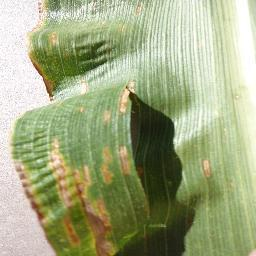Gray_Leaf_Spot: (29, 193, 155, 256), (14, 0, 70, 104), (94, 79, 142, 194), (10, 135, 93, 193), (94, 16, 131, 36), (193, 154, 215, 182), (77, 75, 88, 113), (132, 1, 143, 17)
